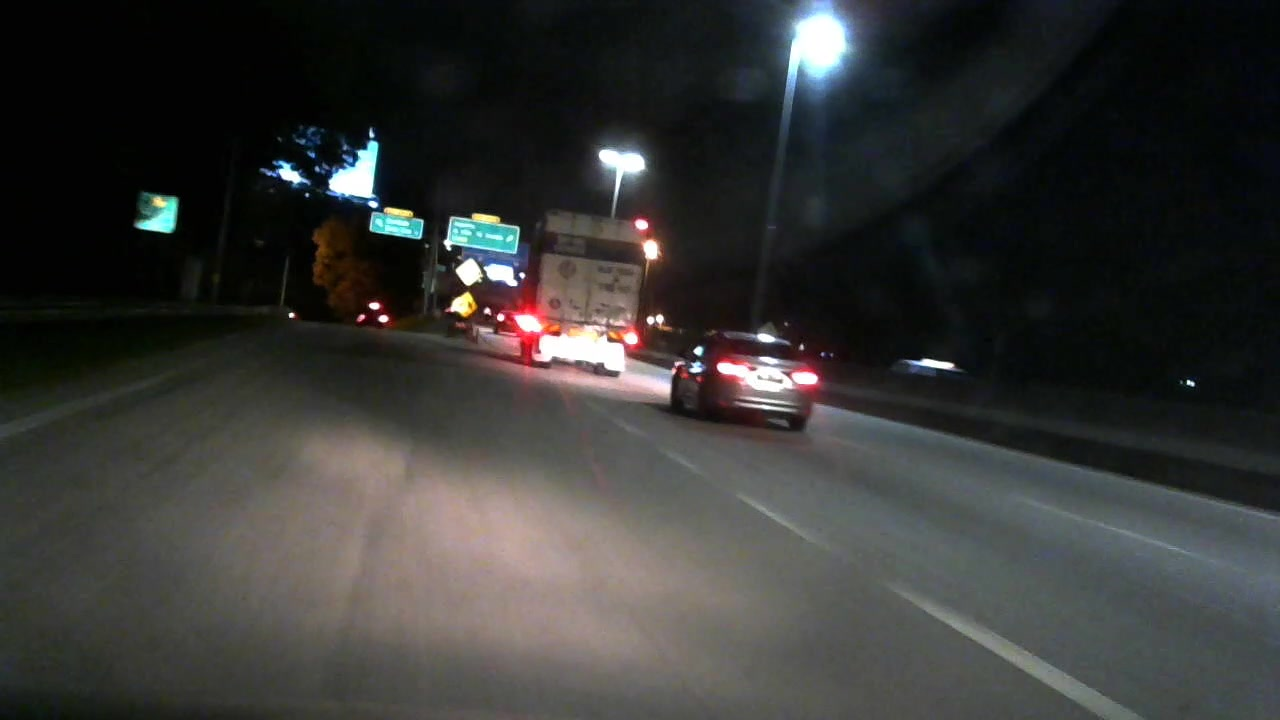Car: (653, 327, 832, 438), (352, 297, 400, 333)
